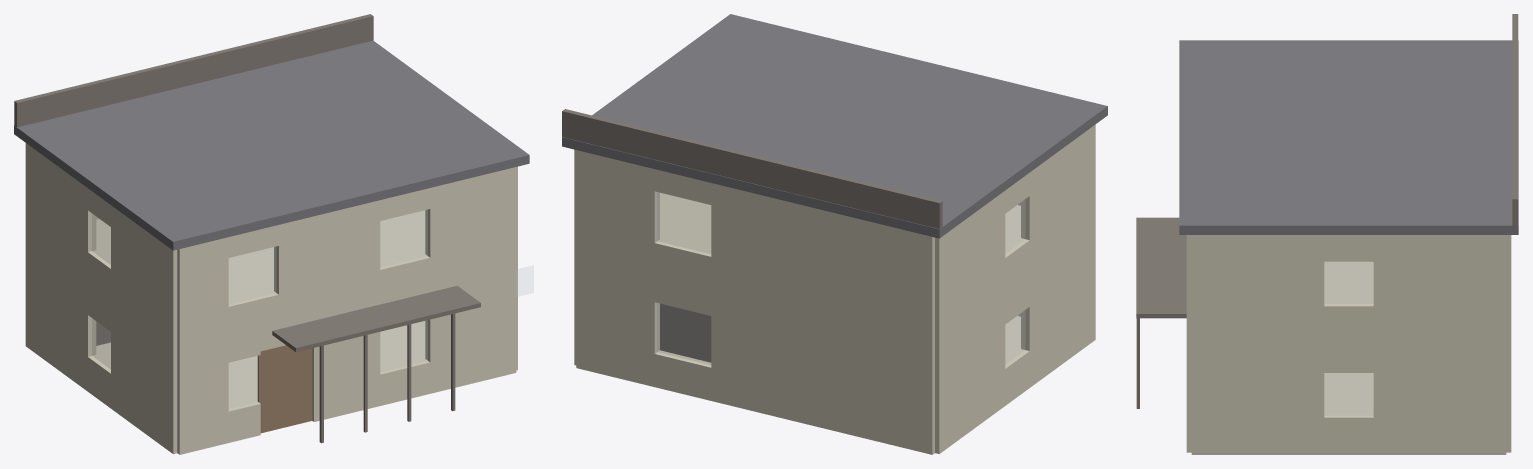
The model's file is shell_06.glb.
3 renders of one model, left to right at view 1: azimuth 30°, elevation 25°; view 2: azimuth 150°, elevation 25°; view 3: azimuth 270°, elevation 25°, orthographic. The views are drawn at different scales.
Parts seen in each view (by area): view 1: Roof, Wall_Front, Wall_Left, RoofRail, Awning, Floor_1, Door_Front, Floor_0, Glass_Front_4, Glass_Front_3, Glass_Front_2, Glass_Front_1 (+2 smaller); view 2: Wall_Back, Roof, Wall_Left, RoofRail, Floor_1, Glass_Back_1, Glass_Back_2, Interior_Wall, Glass_Left_1, Glass_Left_2, Wall_Right, Floor_0; view 3: Wall_Right, Roof, Awning, Glass_Right_1, Glass_Right_2, Floor_0, Floor_1, RoofRail, Wall_Front, Wall_Back.
Part boxes in pixels (left/top/right/bottom): Roof: left=14, top=40, right=529, bottom=250; Wall_Front: left=177, top=167, right=516, bottom=454; Wall_Left: left=25, top=143, right=177, bottom=454; RoofRail: left=14, top=14, right=373, bottom=127; Awning: left=272, top=285, right=480, bottom=352; Floor_1: left=96, top=210, right=425, bottom=301; Door_Front: left=257, top=345, right=312, bottom=433; Floor_0: left=96, top=321, right=425, bottom=406; Glass_Front_4: left=380, top=210, right=427, bottom=266; Glass_Front_3: left=229, top=247, right=275, bottom=303; Glass_Front_2: left=380, top=320, right=427, bottom=371; Glass_Front_1: left=229, top=356, right=257, bottom=408; Wall_Back: left=576, top=150, right=934, bottom=454; Roof: left=562, top=14, right=1107, bottom=238; Wall_Left: left=935, top=124, right=1095, bottom=453; RoofRail: left=562, top=109, right=942, bottom=228; Floor_1: left=660, top=192, right=1020, bottom=251; Glass_Back_1: left=657, top=303, right=710, bottom=364; Glass_Back_2: left=657, top=192, right=710, bottom=253; Interior_Wall: left=660, top=303, right=711, bottom=362; Glass_Left_1: left=1005, top=311, right=1024, bottom=363; Glass_Left_2: left=1005, top=200, right=1024, bottom=252; Wall_Right: left=574, top=149, right=576, bottom=365; Floor_0: left=1005, top=316, right=1020, bottom=359; Wall_Right: left=1191, top=235, right=1506, bottom=454; Roof: left=1179, top=40, right=1518, bottom=234; Awning: left=1136, top=217, right=1186, bottom=318; Glass_Right_1: left=1324, top=373, right=1373, bottom=415; Glass_Right_2: left=1324, top=262, right=1373, bottom=303; Floor_0: left=1324, top=373, right=1373, bottom=413; Floor_1: left=1324, top=261, right=1373, bottom=301; RoofRail: left=1512, top=14, right=1518, bottom=225; Wall_Front: left=1186, top=235, right=1191, bottom=452; Wall_Back: left=1506, top=235, right=1511, bottom=452.
Bounding box in the file's own units: 10.99 × 6.95 × 9.31.
